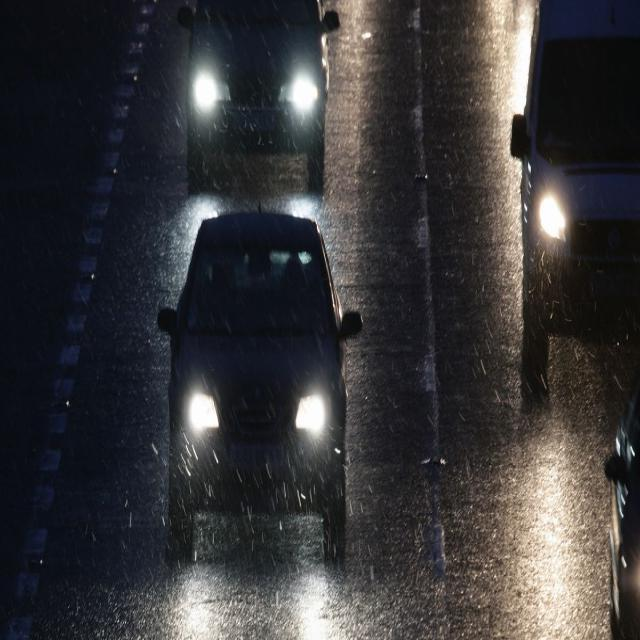headlights: (178, 381, 345, 455), (184, 62, 322, 124)
